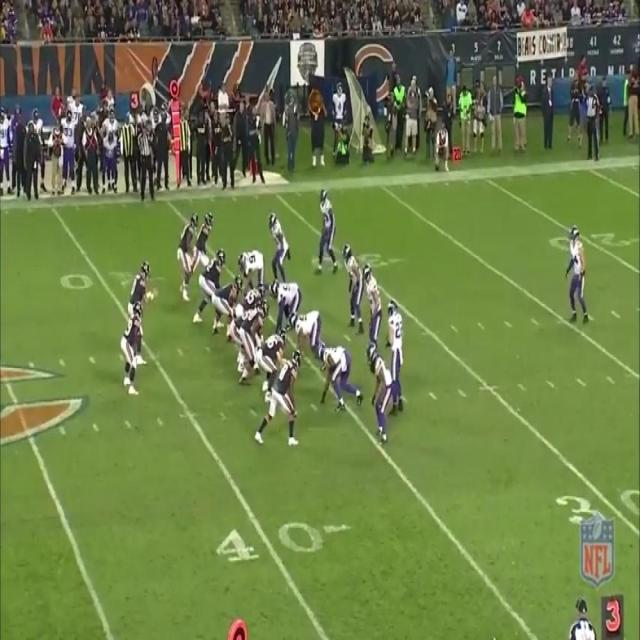center: (239, 281, 267, 315)
db: (562, 227, 591, 320), (371, 344, 390, 434), (390, 304, 406, 381), (319, 188, 333, 258)
lb: (342, 241, 361, 330), (364, 266, 383, 342), (267, 216, 291, 267)
qb: (133, 262, 155, 299)
skill: (119, 300, 143, 389), (276, 349, 297, 434), (258, 331, 286, 374), (182, 211, 199, 277), (199, 207, 214, 260)
